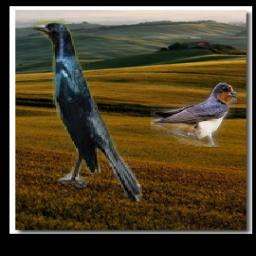Crow: (32, 19, 143, 202)
Swallow: (152, 83, 238, 147)
